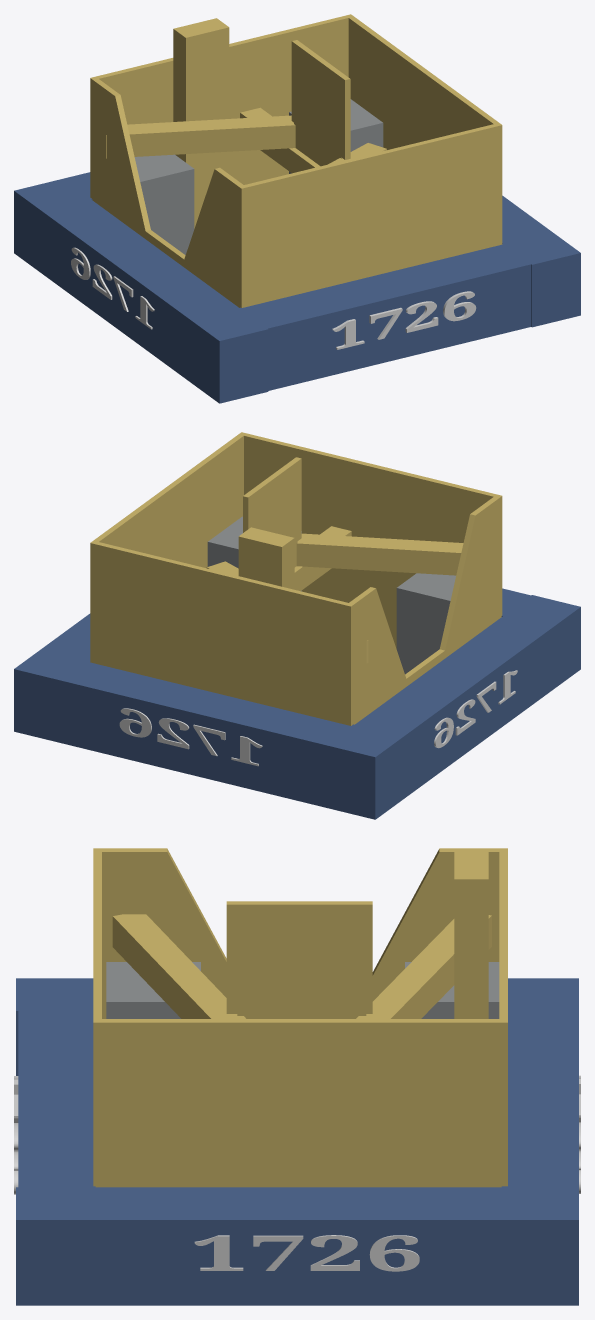
File: nerds_2025_robot.glb
The picture shows the model from 3 angles, top to bottom: view 1: azimuth 30°, elevation 25°; view 2: azimuth 150°, elevation 25°; view 3: azimuth 270°, elevation 25°; orthographic projection. The views are drawn at different scales.
Parts seen in each view (by area): view 1: Mesh_Mesh_head_geo.001_lambert2SG.001; view 2: Mesh_Mesh_head_geo.001_lambert2SG.001; view 3: Mesh_Mesh_head_geo.001_lambert2SG.001.
Part boxes in pixels (x1,y1,x2,y2): Mesh_Mesh_head_geo.001_lambert2SG.001: (14,14,580,403); Mesh_Mesh_head_geo.001_lambert2SG.001: (14,432,580,819); Mesh_Mesh_head_geo.001_lambert2SG.001: (14,848,580,1305).
Size of the model in its own units: 851 by 486 by 838.
